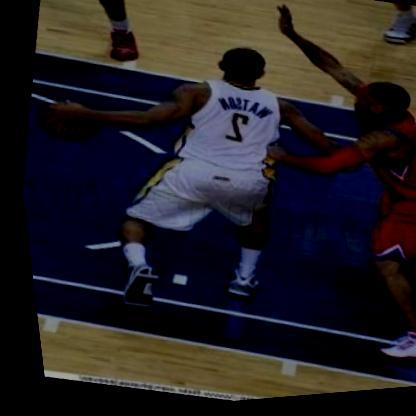basketball: (25, 86, 104, 150)
